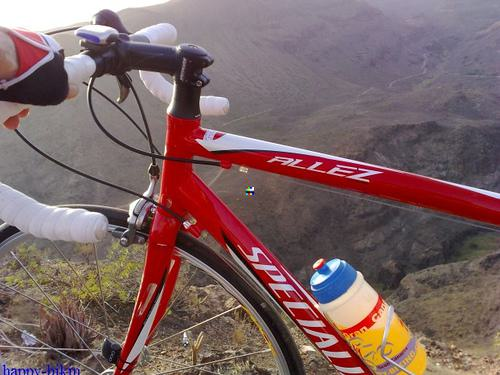car: (1, 7, 499, 375)
